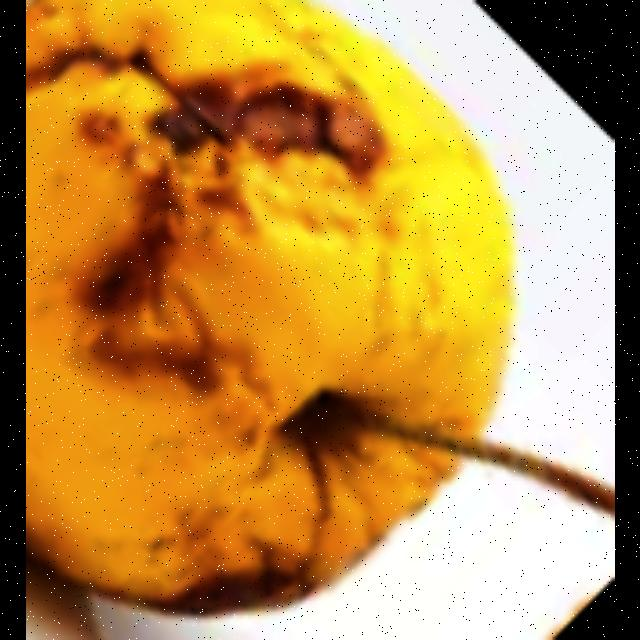Apel Tidak Segar: (26, 0, 514, 618)
